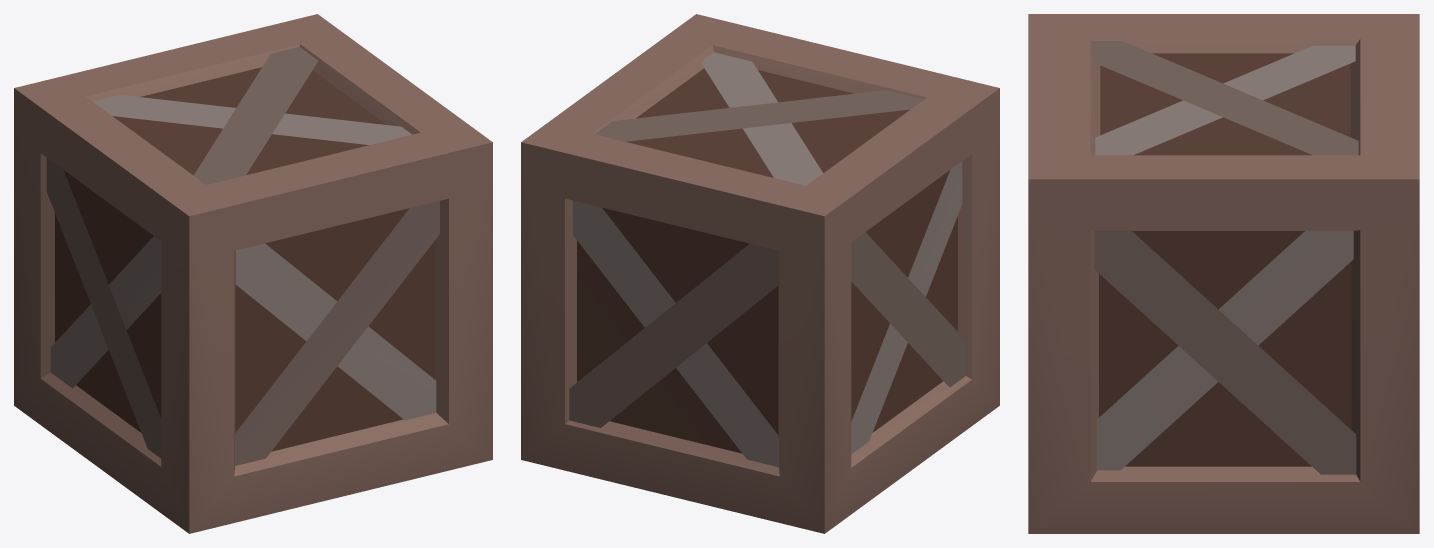
File: prop_020.glb
3 renders of one model, left to right at view 1: azimuth 30°, elevation 25°; view 2: azimuth 150°, elevation 25°; view 3: azimuth 270°, elevation 25°, orthographic. The views are drawn at different scales.
Visible parts, largest first — view 1: prop.020; view 2: prop.020; view 3: prop.020.
Boxes of the visible parts, bbox=[...] form: prop.020: bbox=[14, 14, 492, 533]; prop.020: bbox=[521, 14, 999, 533]; prop.020: bbox=[1028, 14, 1419, 533].
Size of the model in its own units: 0.6495 by 0.6493 by 0.6494.
Materials: 1 (1 with a texture image).
